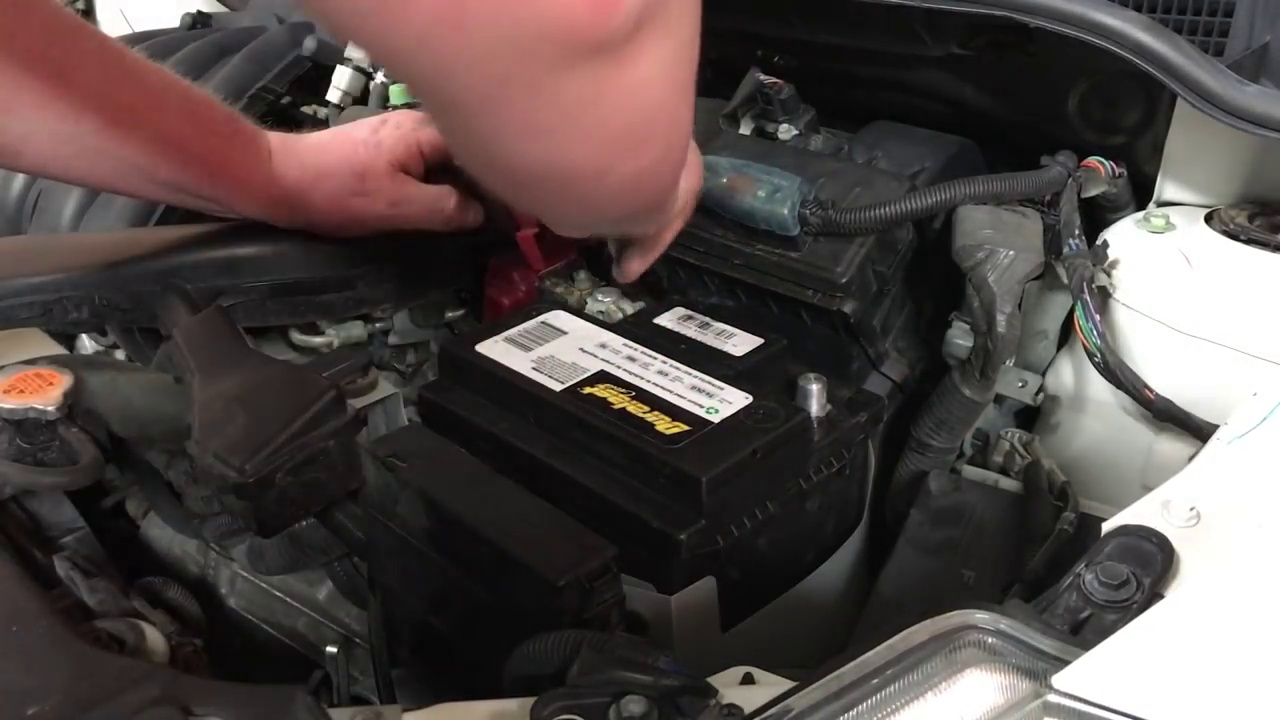battery: (457, 280, 848, 476)
neg_disconnected: (751, 340, 862, 446)
pos_touched: (376, 128, 684, 334)
